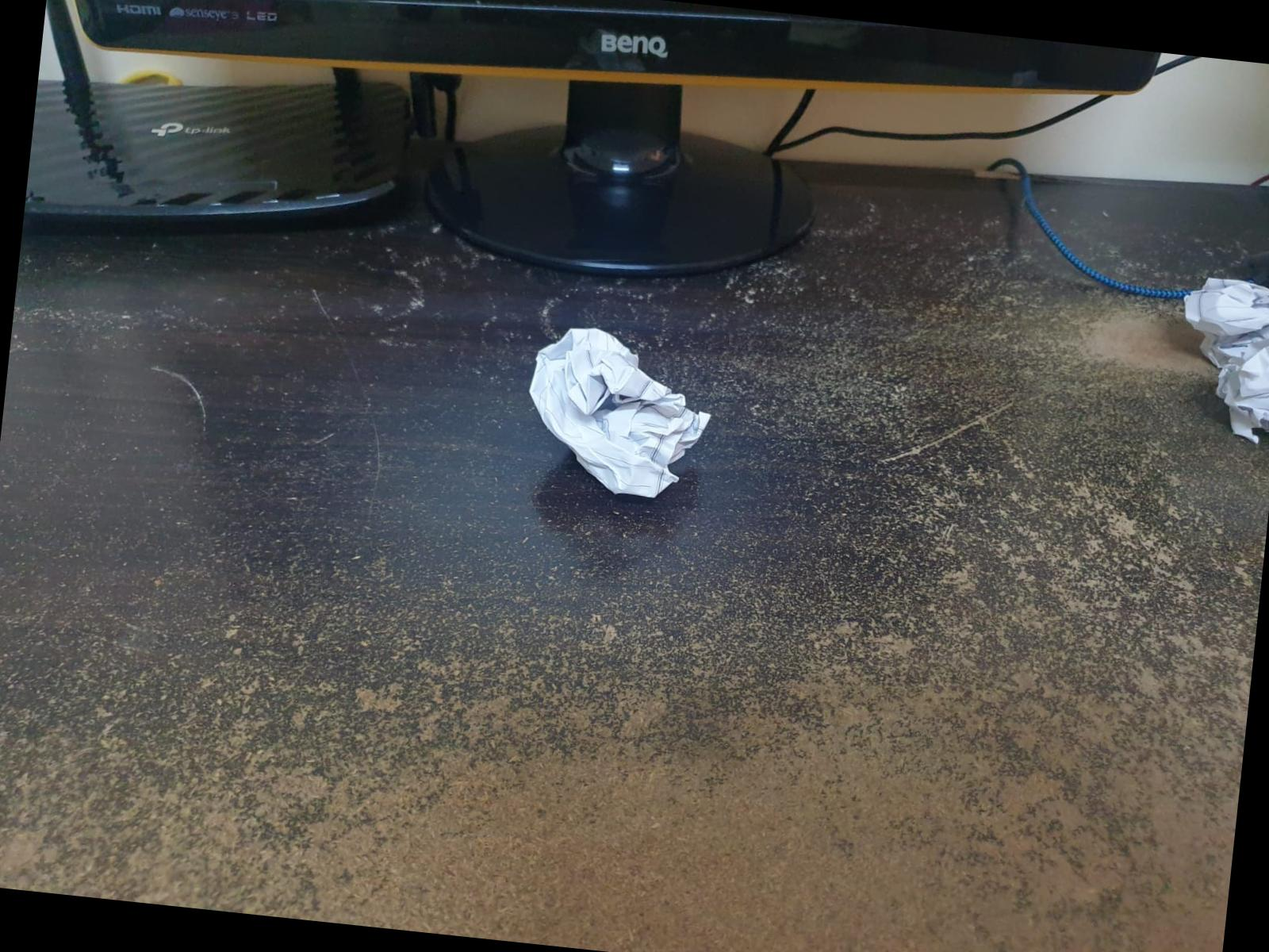Kertas: (530, 330, 709, 497)
